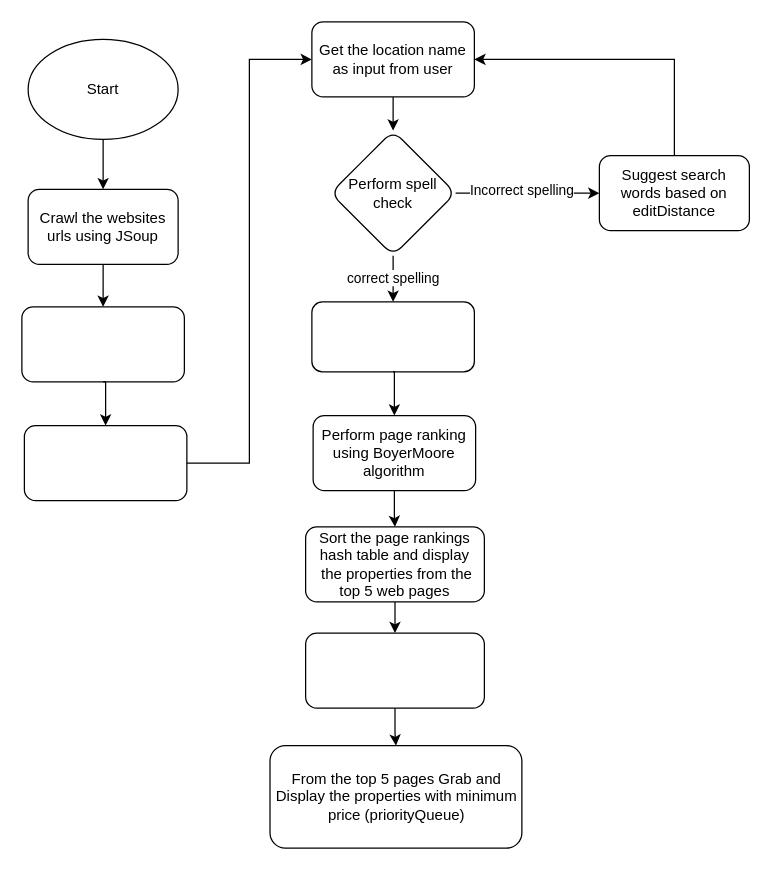
Some shapes in this 771 by 870 pixel diagram are drawn without their labels. Here are the shapes that lost their labels. From the top down, the box of each, then its label:
(21, 306, 184, 382): Extract the parsed html data and store in text file
(311, 301, 474, 372): Store the search word and sort the search history based on recent search
(23, 424, 187, 501): Display the search history in the order of searching
(304, 632, 484, 708): Get number of bedrooms from user
